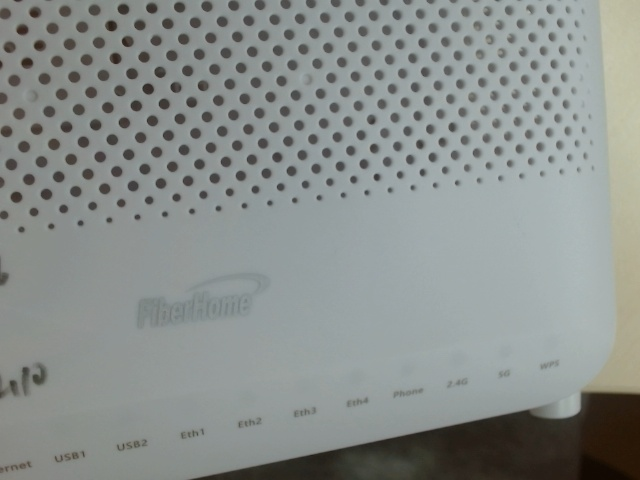AI_FiberHome: (118, 268, 282, 331)
